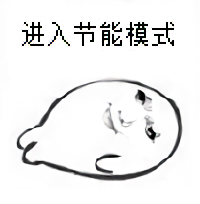dragon: (105, 90, 161, 145)
